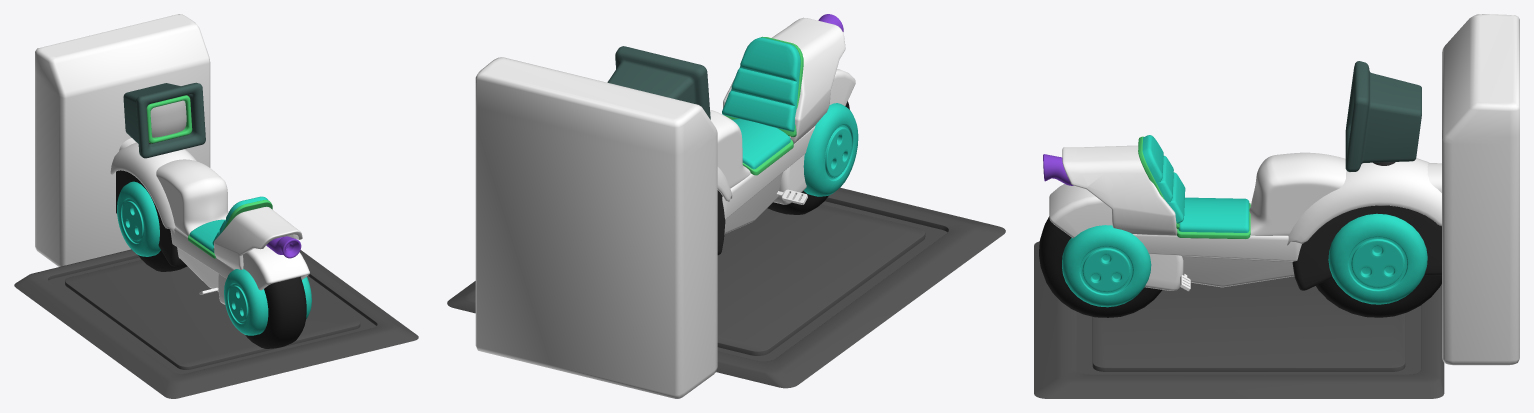
Rendered from Bike_machine_1.fbx.
The picture shows the model from 3 angles, left to right: view 1: azimuth 30°, elevation 25°; view 2: azimuth 150°, elevation 25°; view 3: azimuth 270°, elevation 25°; orthographic projection. The views are drawn at different scales.
Visible parts, largest first — view 1: Ground; view 2: Ground; view 3: Ground.
Boxes of the visible parts, x1,y1,x2,y2 form: Ground: [14, 14, 418, 398]; Ground: [447, 14, 1005, 398]; Ground: [1034, 14, 1519, 398].
Bounding box in the file's own units: 153 × 117 × 198.
